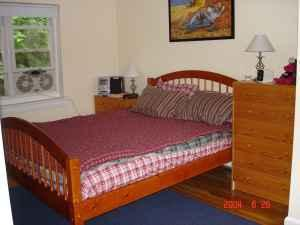Armario: (232, 81, 290, 205)
Cama: (8, 75, 233, 209)
Ventana: (3, 4, 62, 103)
